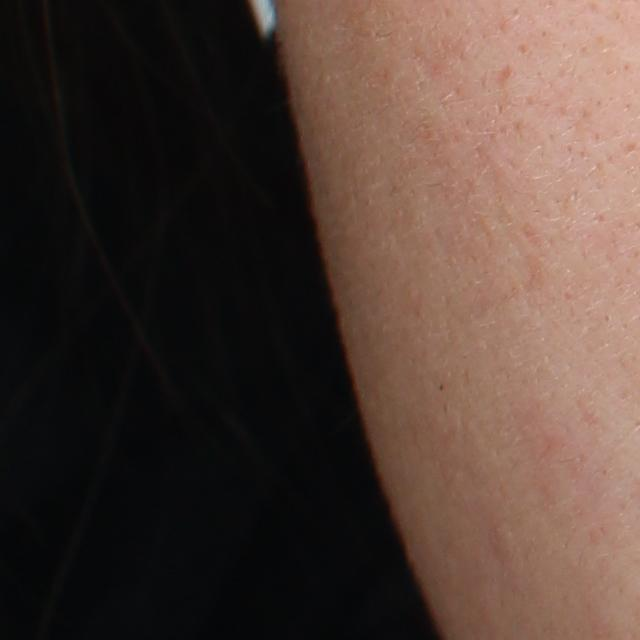atrophic_scar: (493, 63, 514, 90)
